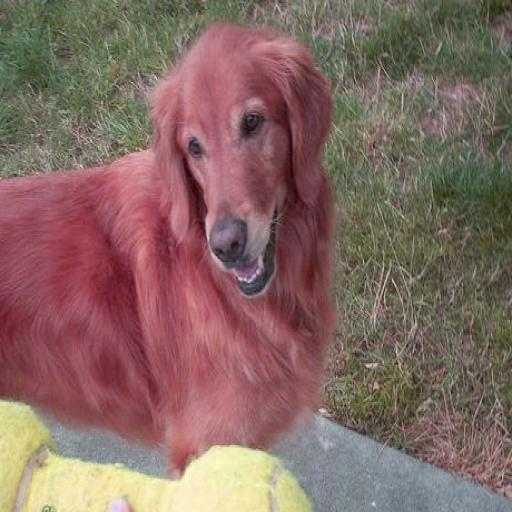dog_face: (157, 29, 318, 298)
